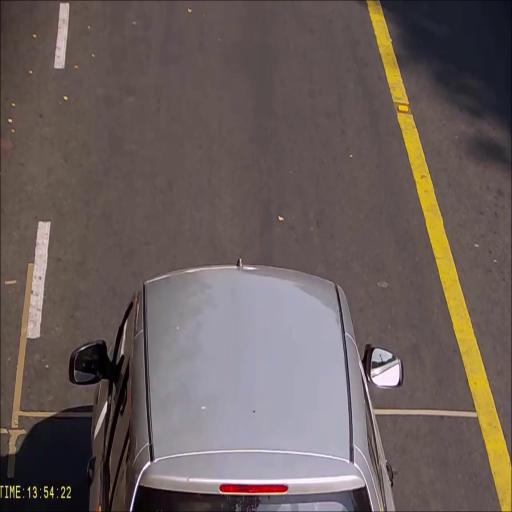Vehicle: (68, 257, 405, 512)
